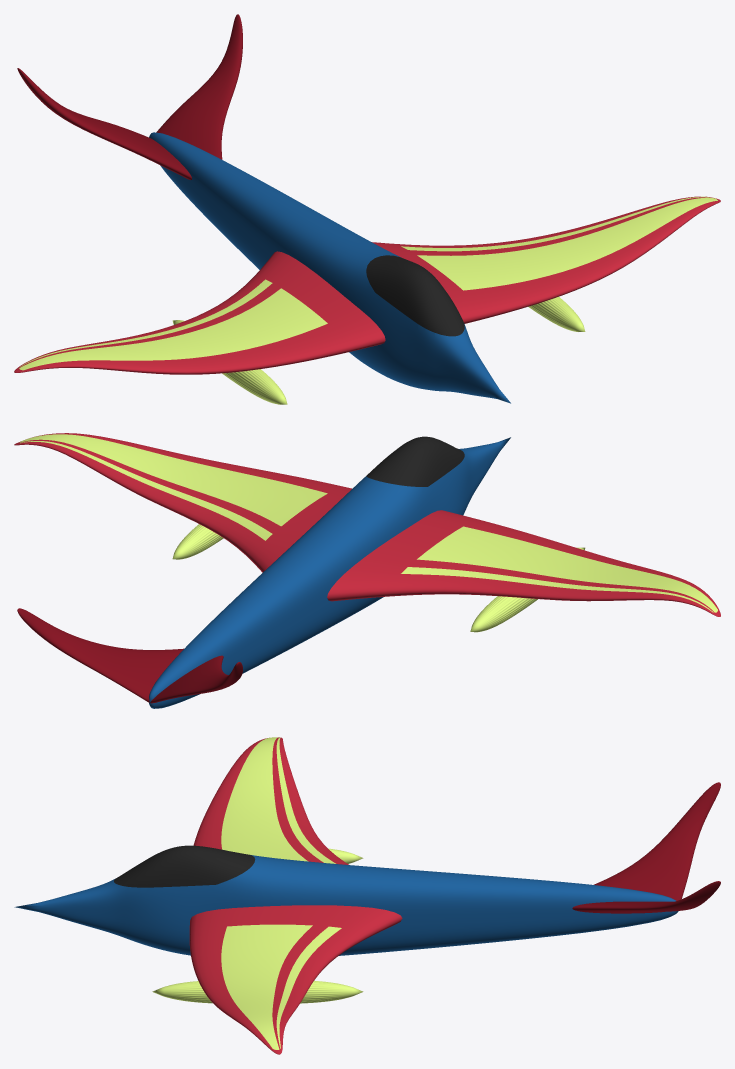
Rendered from planeWithPaint.glb.
The picture shows the model from 3 angles, top to bottom: view 1: azimuth 30°, elevation 25°; view 2: azimuth 150°, elevation 25°; view 3: azimuth 270°, elevation 25°; orthographic projection. The views are drawn at different scales.
Parts seen in each view (by area): view 1: p; view 2: p; view 3: p.
Boxes of the visible parts, x1,y1,x2,y2 form: p: (14, 14, 720, 404); p: (14, 433, 720, 708); p: (14, 737, 720, 1054).
Size of the model in its own units: 13.09 by 2.4 by 12.34.
